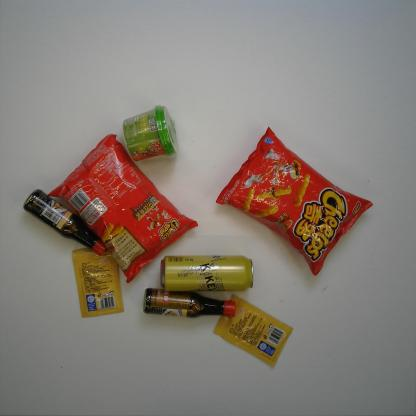Alcohol: (159, 254, 254, 293)
Instant Drink: (121, 104, 179, 163)
Puffed Food: (214, 125, 374, 277), (46, 133, 200, 285)
Seasoner: (213, 294, 293, 368), (22, 188, 107, 257), (71, 247, 125, 319), (142, 288, 236, 319)
